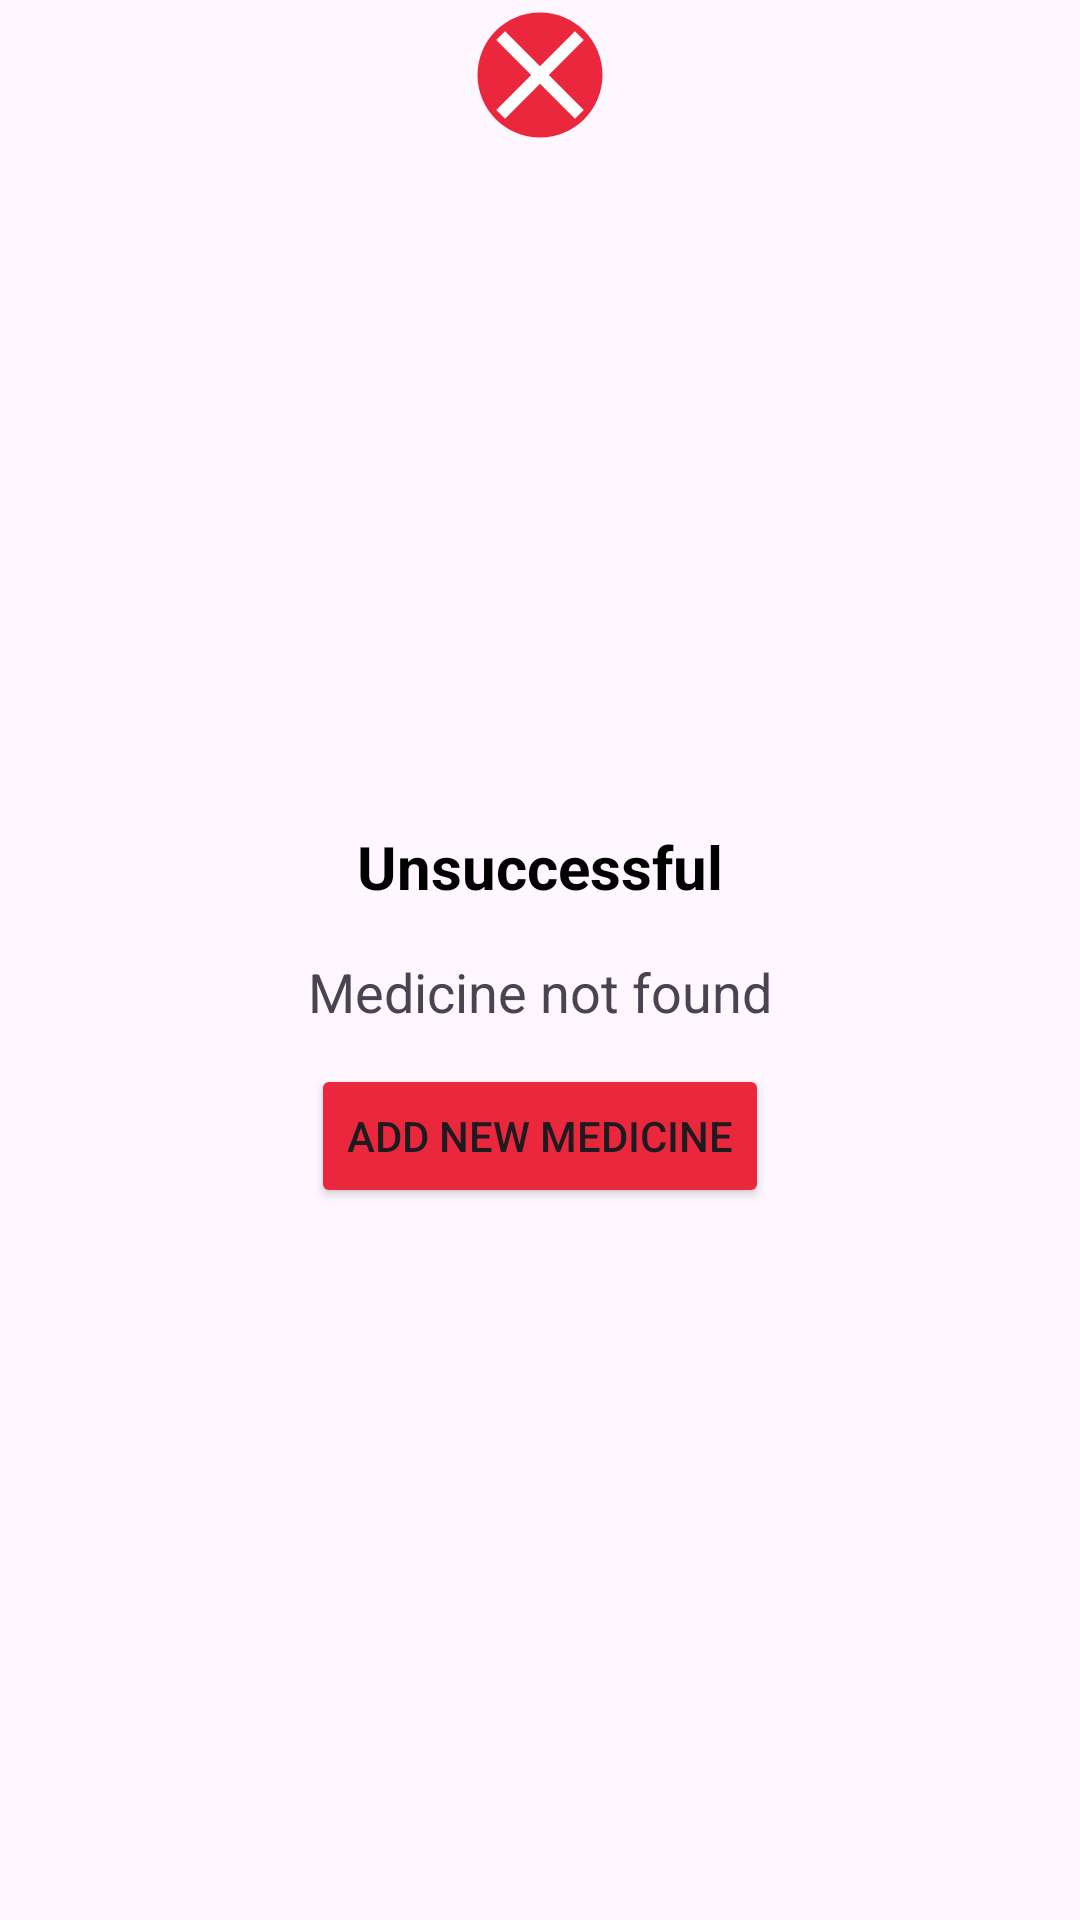

Screen size 1080px×1920px. Icon name, then its center in pixels as (x,y):
wrong circle: (540,75)
